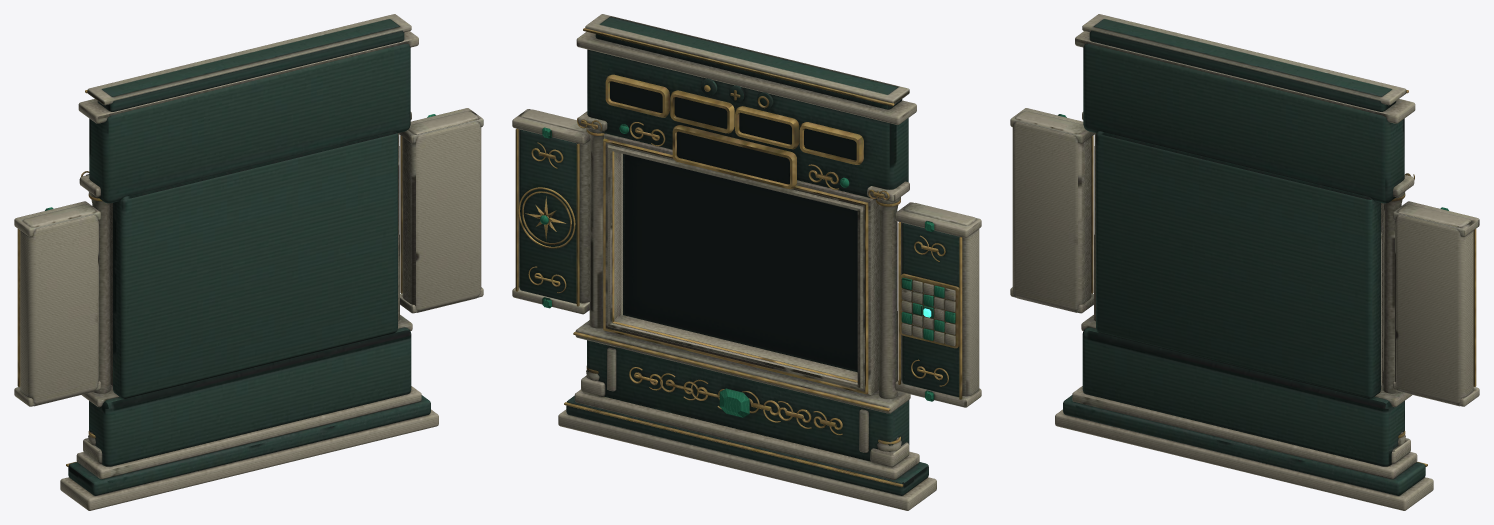
The picture shows the model from 3 angles, left to right: view 1: azimuth 30°, elevation 25°; view 2: azimuth 150°, elevation 25°; view 3: azimuth 330°, elevation 25°; orthographic projection.
Visible parts, largest first — view 1: Atlas_deep_green_stone, Atlas_warm_limestone, Atlas_antique_gold; view 2: Atlas_warm_limestone, Atlas_deep_green_stone, Uniform_dark_display_inset, Atlas_antique_gold, Atlas_emerald_mosaic; view 3: Atlas_deep_green_stone, Atlas_warm_limestone, Atlas_antique_gold.
Part boxes in pixels (x1,y1,x2,y2): Atlas_deep_green_stone: (68,19,430,495); Atlas_warm_limestone: (14,14,483,510); Atlas_antique_gold: (17,90,402,466); Atlas_warm_limestone: (512,14,981,510); Atlas_deep_green_stone: (519,17,959,495); Uniform_dark_display_inset: (610,81,857,370); Atlas_antique_gold: (515,28,962,487); Atlas_emerald_mosaic: (540,124,955,417); Atlas_deep_green_stone: (1063,19,1425,495); Atlas_warm_limestone: (1010,14,1479,510); Atlas_antique_gold: (1091,90,1476,466).
Size of the model in its own units: 12.8 by 10.8 by 1.53.
6 materials, 5 textured.
